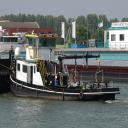tugboat: (10, 30, 122, 106)
